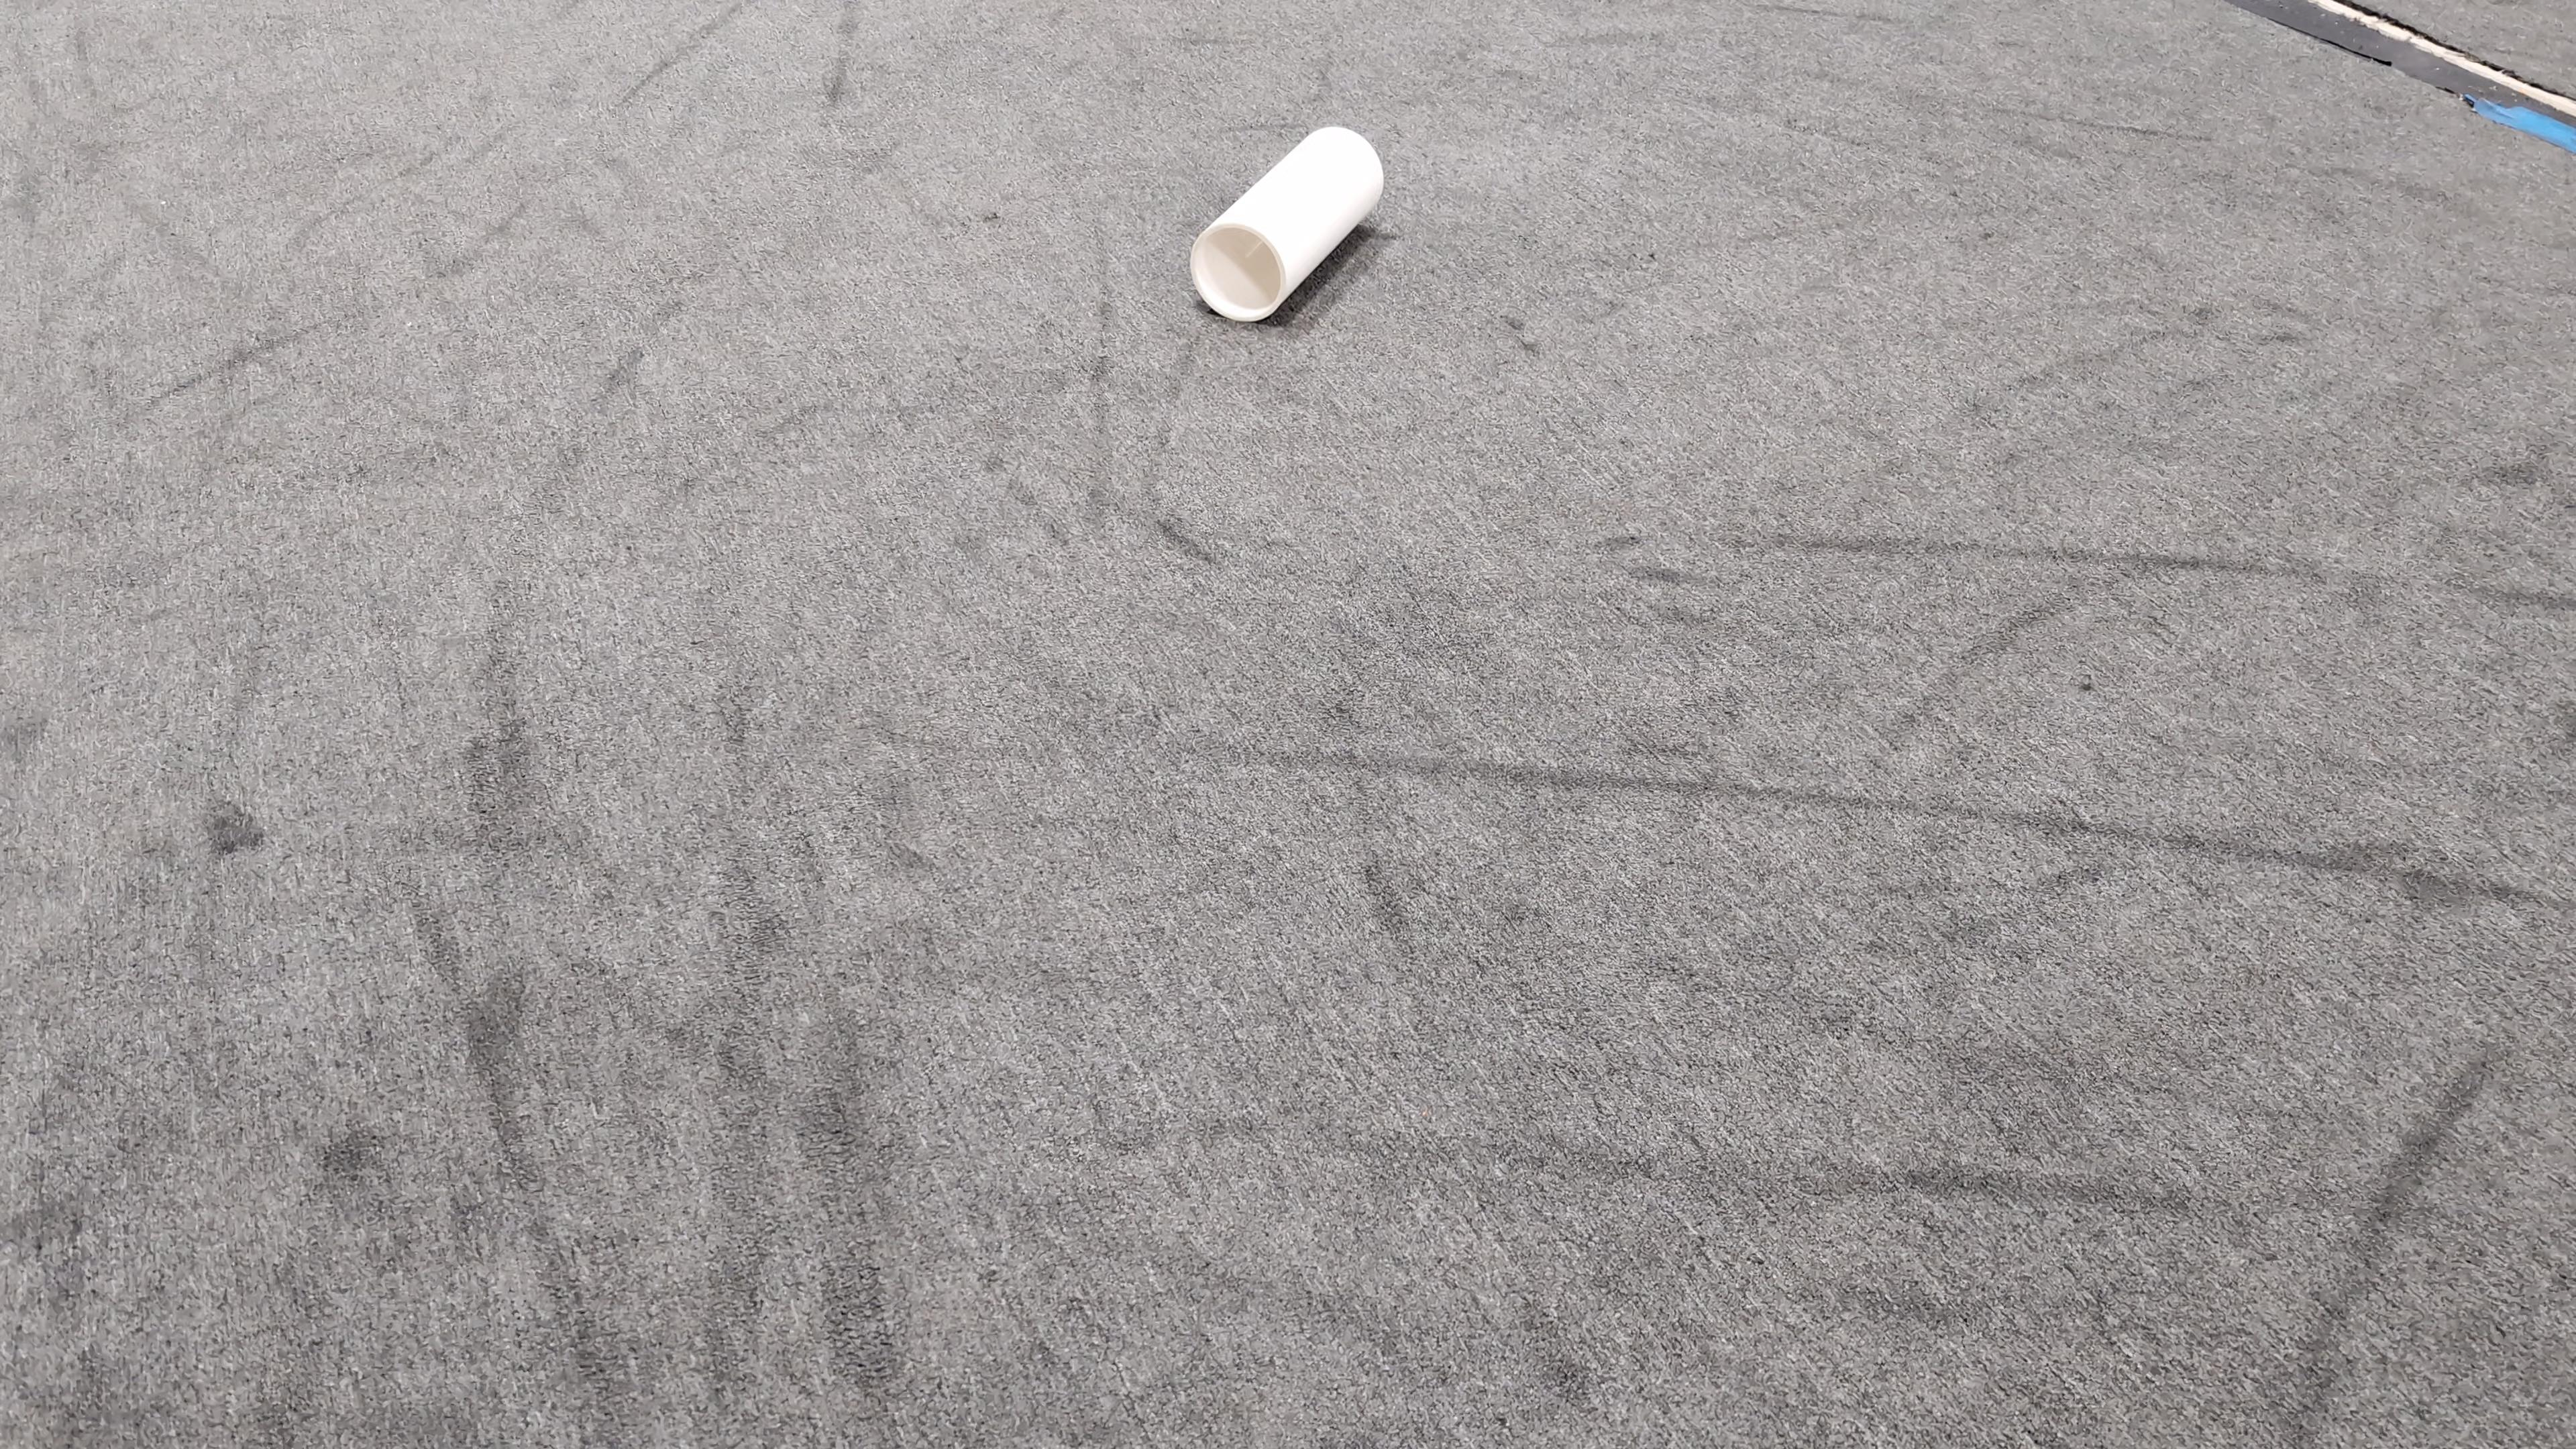coral: (1189, 122, 1385, 322)
